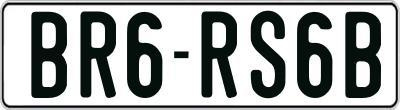6: (125, 10, 163, 97), (296, 12, 333, 101)
B: (29, 9, 69, 99), (345, 11, 381, 98)
R: (199, 11, 238, 101), (81, 10, 119, 100)
S: (250, 10, 285, 102)
